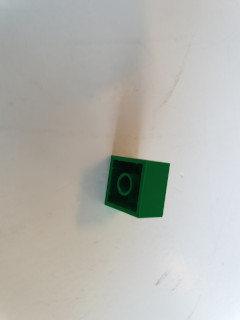2x2 green: (101, 154, 171, 220)
